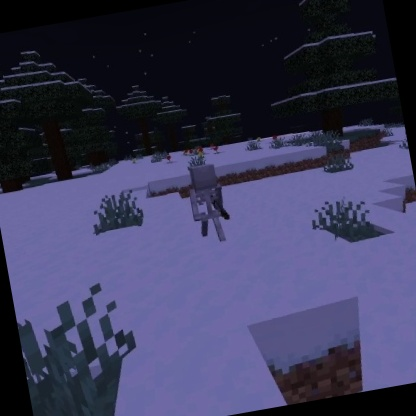skeleton: (181, 158, 237, 248)
